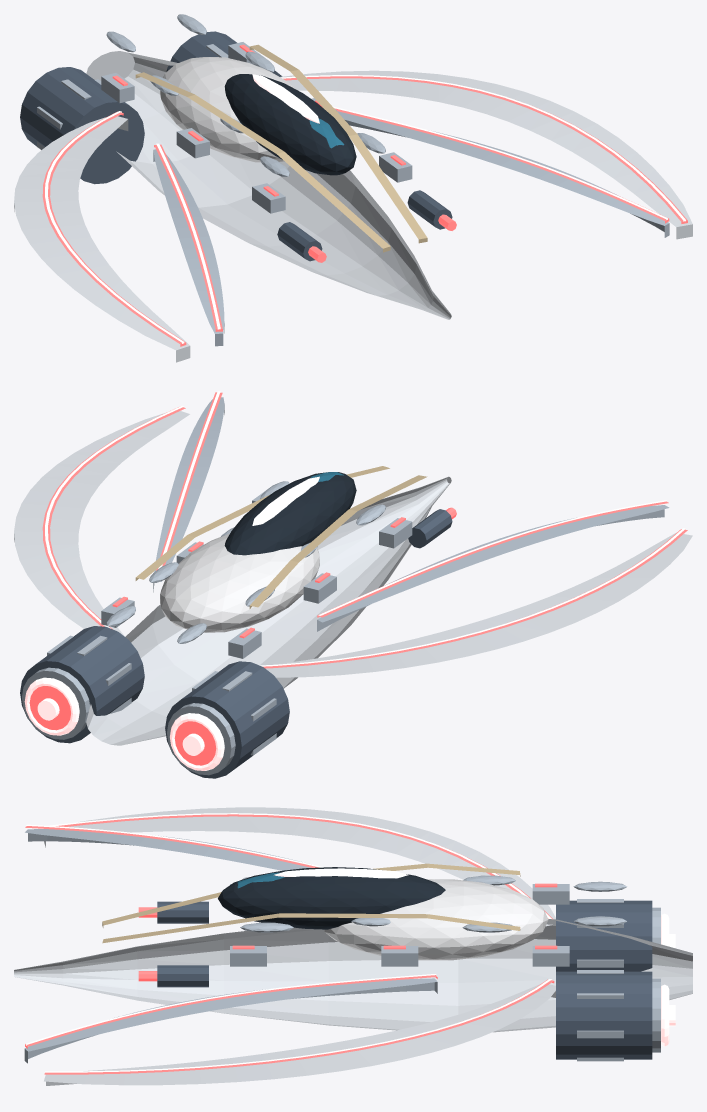
File: SL_AURORA_FINAL.glb
3 views of the same model, one above another, from view 1: azimuth 30°, elevation 25°; view 2: azimuth 150°, elevation 25°; view 3: azimuth 270°, elevation 25° (orthographic).
Visible parts, largest first — view 1: armor, panel, shadow, black, highlight, neon, trim, bright; view 2: armor, panel, shadow, highlight, neon, bright, black, trim; view 3: armor, panel, shadow, highlight, black, bright, neon, trim.
Boxes of the visible parts, x1,y1,x2,y2 form: armor: (14,51,692,362); panel: (37,14,669,346); shadow: (20,31,452,261); black: (224,74,356,175); highlight: (160,57,296,162); neon: (42,44,687,346); trim: (135,44,427,252); bright: (45,74,685,343); armor: (14,411,692,745); panel: (22,397,669,775); shadow: (20,509,452,778); highlight: (160,533,319,632); neon: (29,392,687,765); bright: (24,391,685,770); black: (224,472,356,555); trim: (135,466,427,608); armor: (14,807,692,1085); panel: (24,829,660,1063); shadow: (157,900,652,1059); highlight: (324,879,548,960); black: (218,867,445,929); bright: (25,813,675,1072); neon: (25,814,557,1074); trim: (102,863,520,943).
Size of the model in its own units: 5.28 by 1.38 by 5.5.
